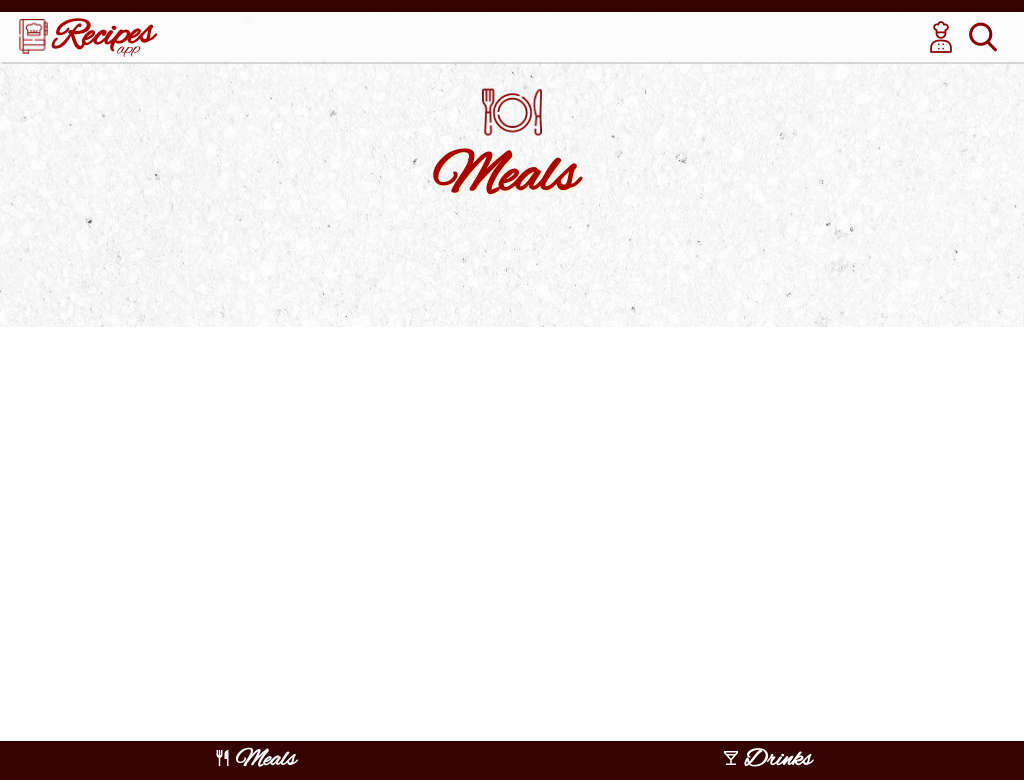
Test: A aplicação possui um componente Header › Verifica se ao clicar no botão de busca pela primeira vez, a barra de busca aparece
Click the button with test id "search-top-btn".
click(983, 37)  # box [962,16,1004,58]
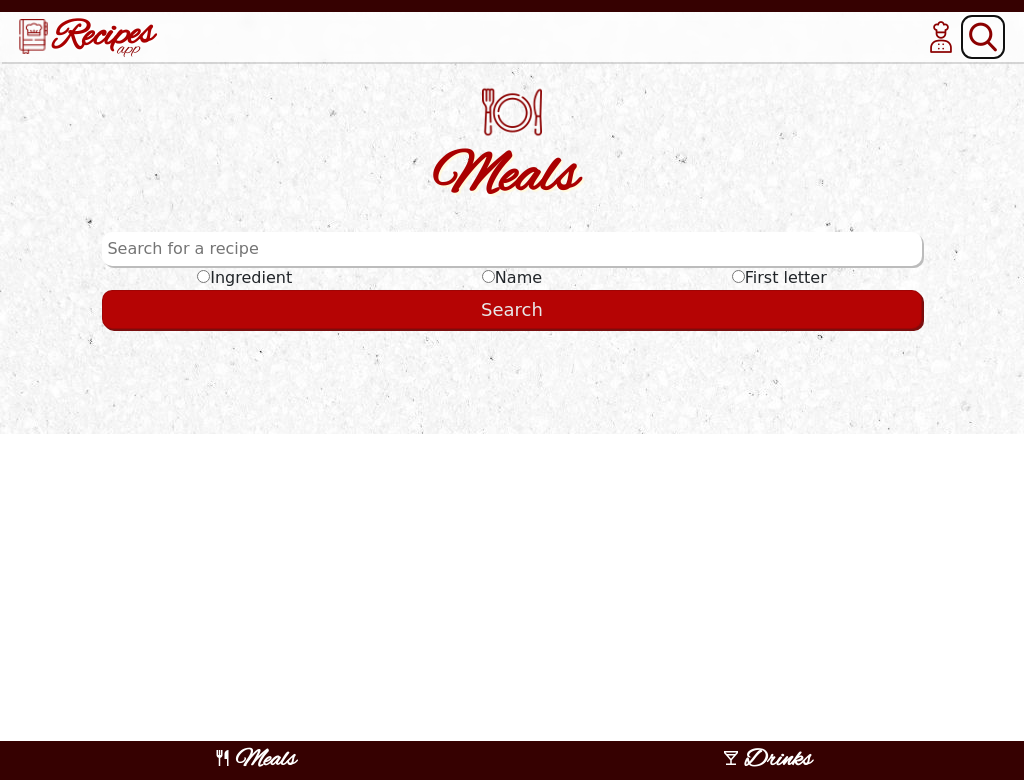
expect the field with test id "search-input" is shown: met, box [102,232,922,266]
